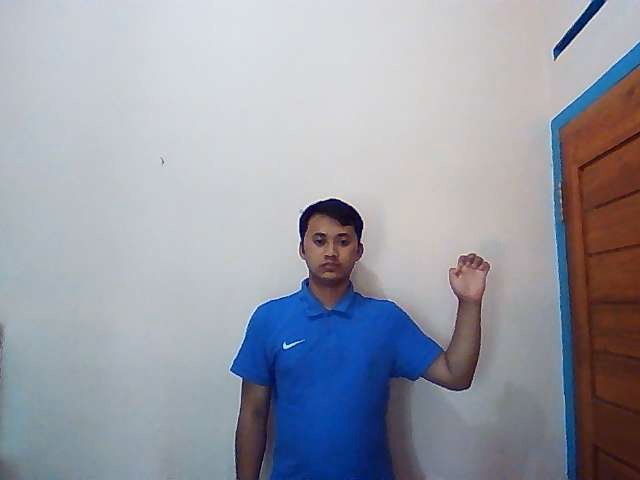E: (447, 252, 492, 299)
